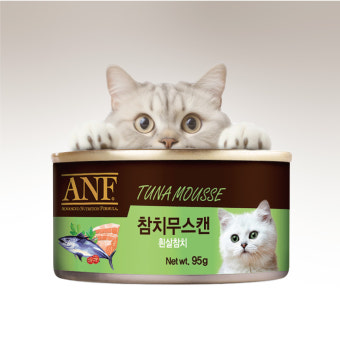paper: (51, 151, 290, 286)
